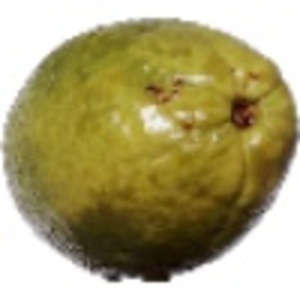goiaba: (7, 13, 292, 281)
